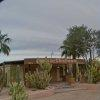Tree: (54, 15, 100, 65)
